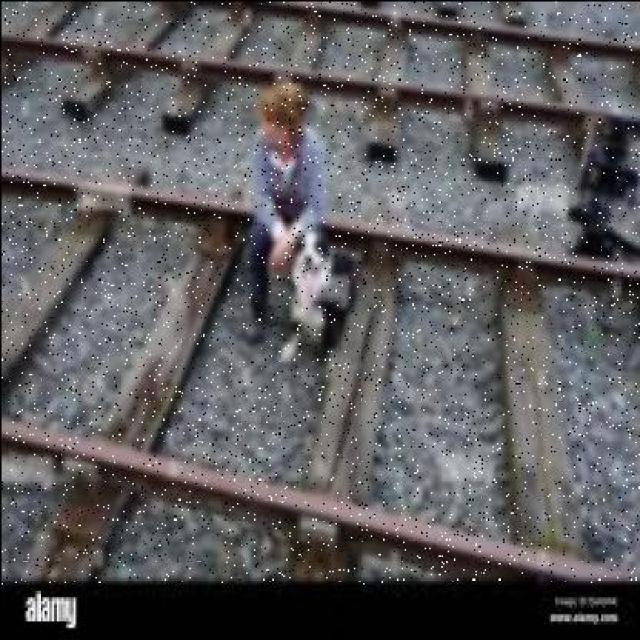danger: (229, 69, 334, 329), (283, 216, 352, 370)
rail: (0, 0, 640, 583)
